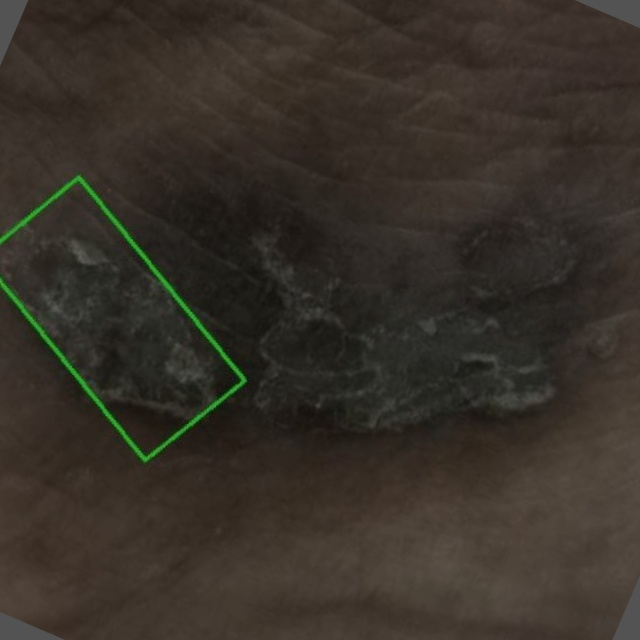Eczema: (0, 177, 243, 461)
